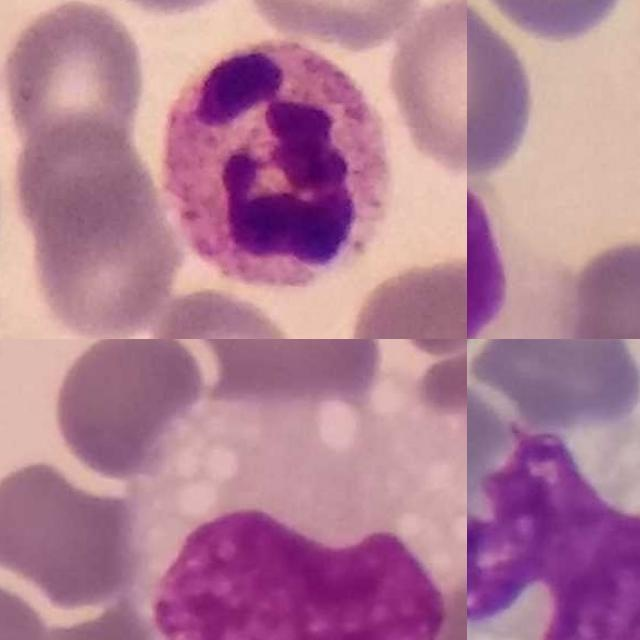Lymphocyte: (467, 156, 579, 339)
Monocyte: (140, 388, 453, 640), (467, 420, 640, 640)
Neutrophil: (163, 41, 393, 290)
